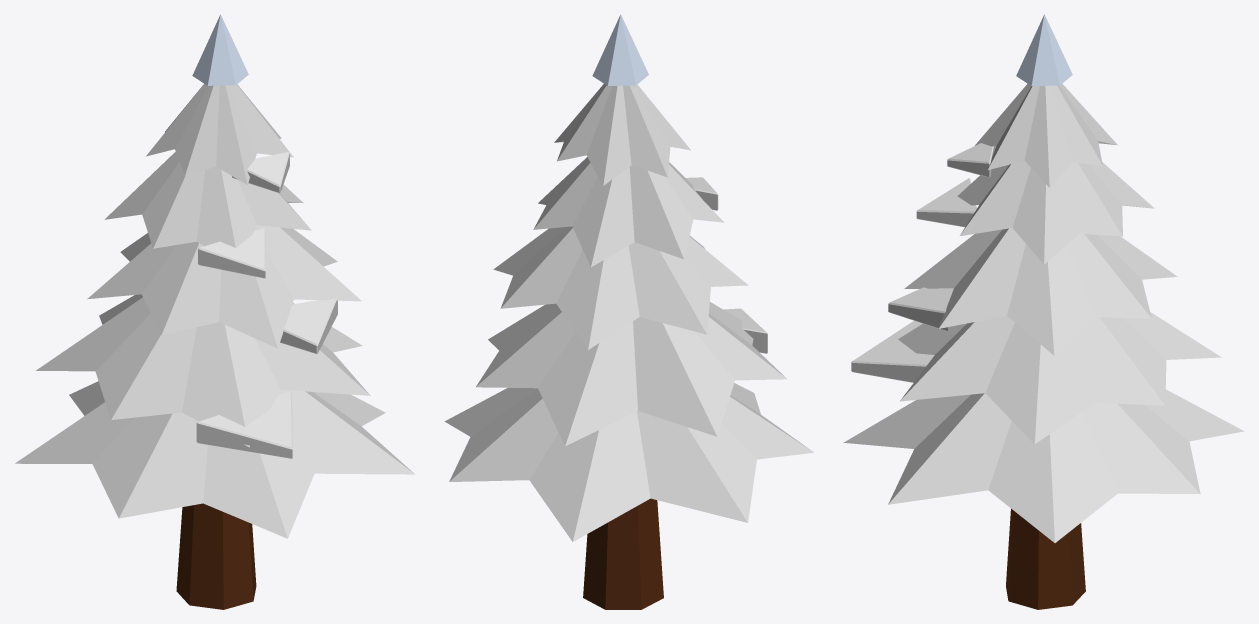
Rendered from tree_01.fbx.
The picture shows the model from 3 angles, left to right: view 1: azimuth 30°, elevation 25°; view 2: azimuth 150°, elevation 25°; view 3: azimuth 270°, elevation 25°; orthographic projection.
Visible parts, largest first — view 1: Foliage_Layer_01, Foliage_Layer_02, Foliage_Layer_03, Foliage_Layer_04, Foliage_Layer_05, Trunk_Flared, Snow_Layer_01, Snow_Layer_02, Snow_Tip, Snow_Layer_03, Snow_Layer_04; view 2: Foliage_Layer_01, Foliage_Layer_02, Foliage_Layer_03, Foliage_Layer_04, Foliage_Layer_05, Trunk_Flared, Snow_Tip, Snow_Layer_01, Snow_Layer_03; view 3: Foliage_Layer_01, Foliage_Layer_02, Foliage_Layer_03, Foliage_Layer_04, Foliage_Layer_05, Trunk_Flared, Snow_Layer_01, Snow_Tip, Snow_Layer_02, Snow_Layer_03, Snow_Layer_04.
Part boxes in pixels (x1,y1,x2,y2): Foliage_Layer_01: (15,381,414,538); Foliage_Layer_02: (36,294,370,447); Foliage_Layer_03: (87,225,361,348); Foliage_Layer_04: (104,151,311,248); Foliage_Layer_05: (146,83,293,184); Trunk_Flared: (176,503,256,609); Snow_Layer_01: (196,391,292,458); Snow_Layer_02: (280,298,337,353); Snow_Tip: (192,14,248,85); Snow_Layer_03: (198,228,265,278); Snow_Layer_04: (232,152,289,193); Foliage_Layer_01: (444,383,813,541); Foliage_Layer_02: (476,302,787,446); Foliage_Layer_03: (493,226,748,349); Foliage_Layer_04: (533,157,723,267); Foliage_Layer_05: (554,84,690,185); Trunk_Flared: (583,498,663,609); Snow_Tip: (592,14,648,85); Snow_Layer_01: (724,308,767,353); Snow_Layer_03: (686,177,718,210); Foliage_Layer_01: (843,389,1243,542); Foliage_Layer_02: (898,312,1221,444); Foliage_Layer_03: (904,228,1177,355); Foliage_Layer_04: (957,160,1154,264); Foliage_Layer_05: (975,83,1117,187); Trunk_Flared: (1006,508,1085,609); Snow_Layer_01: (851,320,934,382); Snow_Tip: (1016,14,1072,85); Snow_Layer_02: (888,287,953,331); Snow_Layer_03: (916,178,977,227); Snow_Layer_04: (947,143,995,177).
Bounding box in the file's own units: 1.79 × 2.92 × 1.83.
4 materials, 2 textured.
